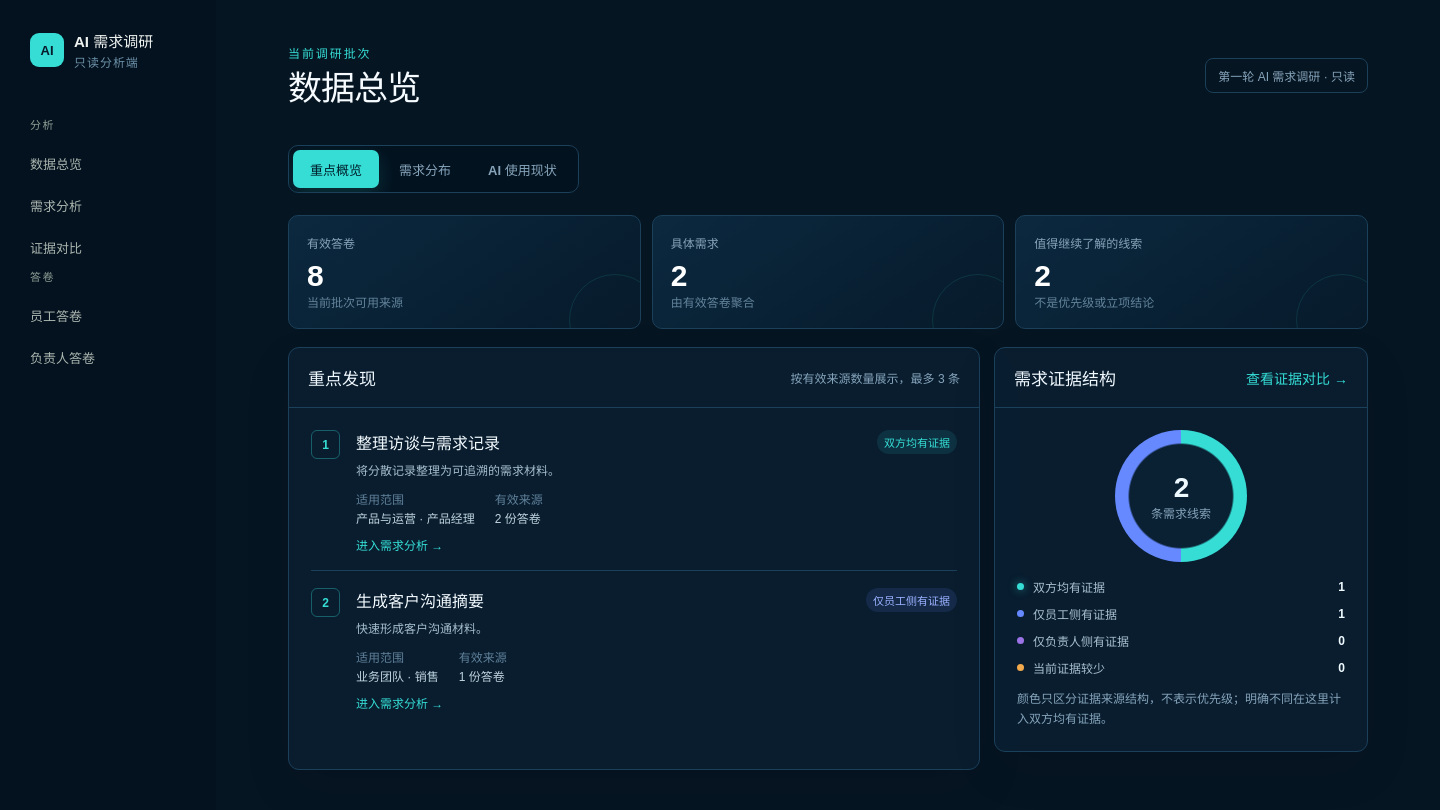
Test: D1 六维统计按稳定键匹配，不依赖远程数组顺序
The width and height of the screenshot is (1440, 810).
Step 1. Click the tab "AI 使用现状" → (522, 169), box [471,150,574,188]
(page scrolled)
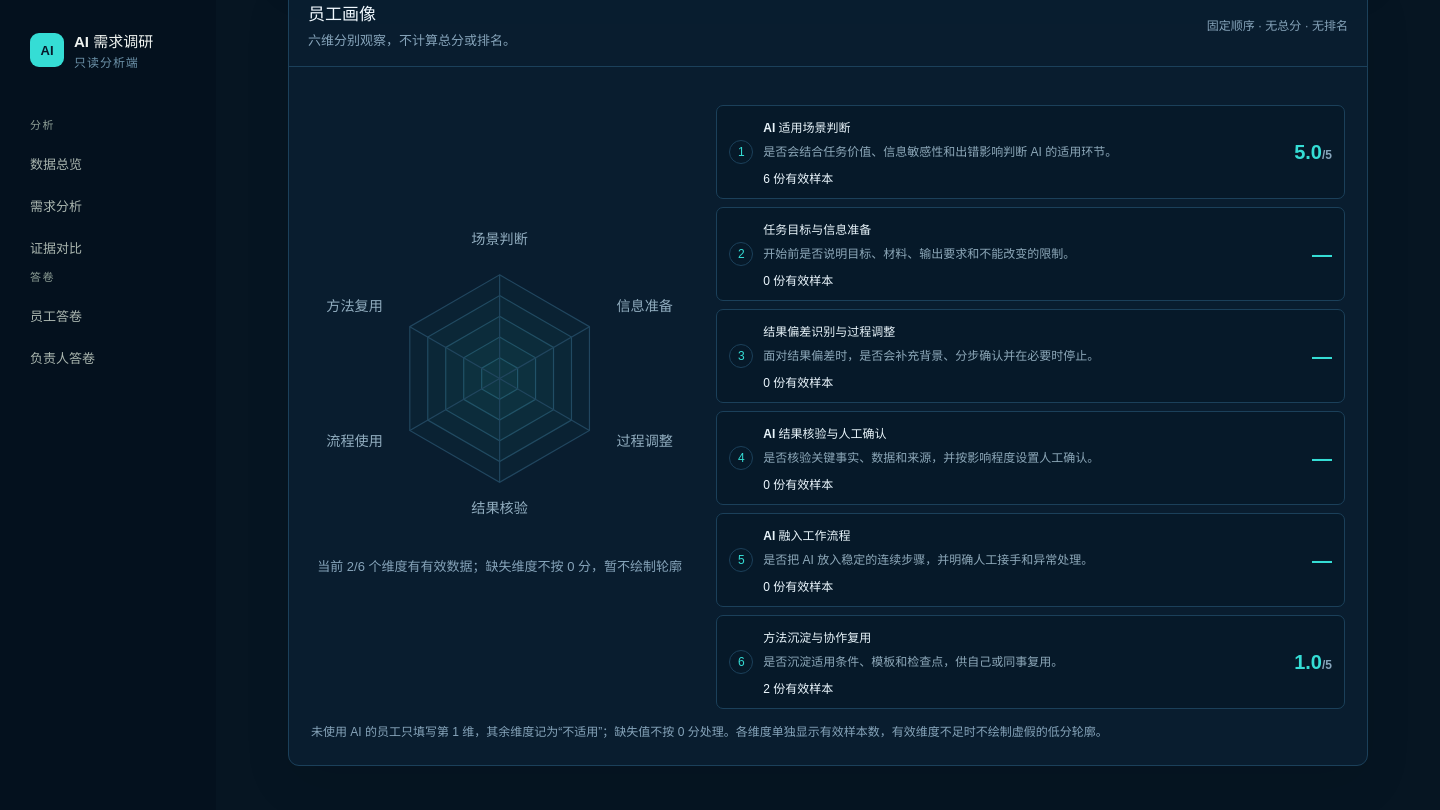
Now the text "5.0" is shown, box [1294,141,1322,163]
Now the text "1.0" is shown, box [1294,651,1322,673]
